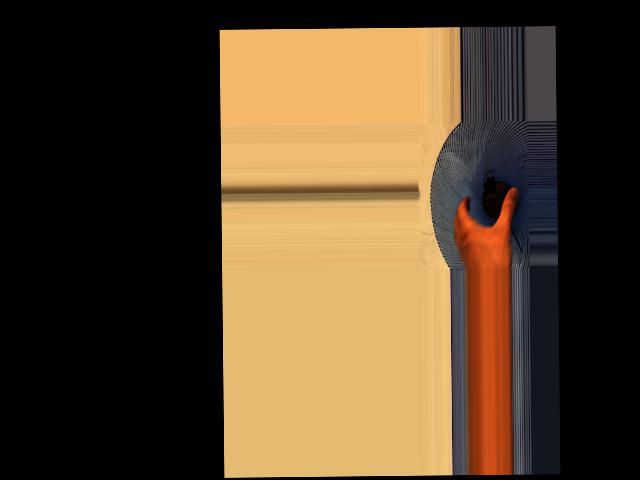beet: (482, 168, 523, 252)
